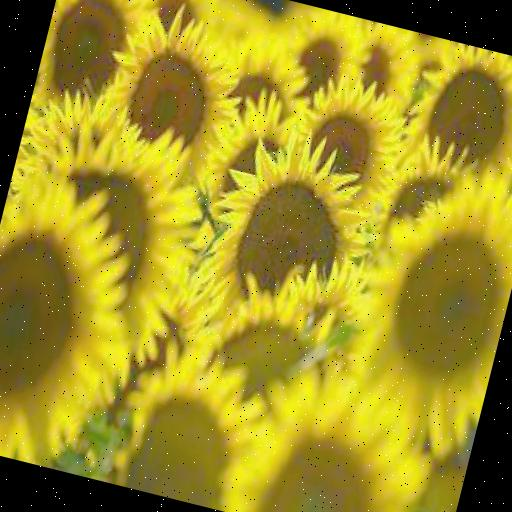sunflower: (0, 170, 169, 481), (190, 122, 396, 359), (82, 0, 262, 205), (107, 329, 284, 512)
